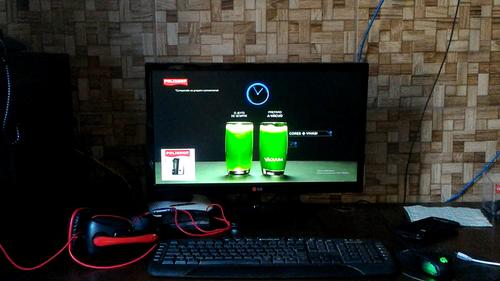Polishop #1: (159, 146, 195, 181)
